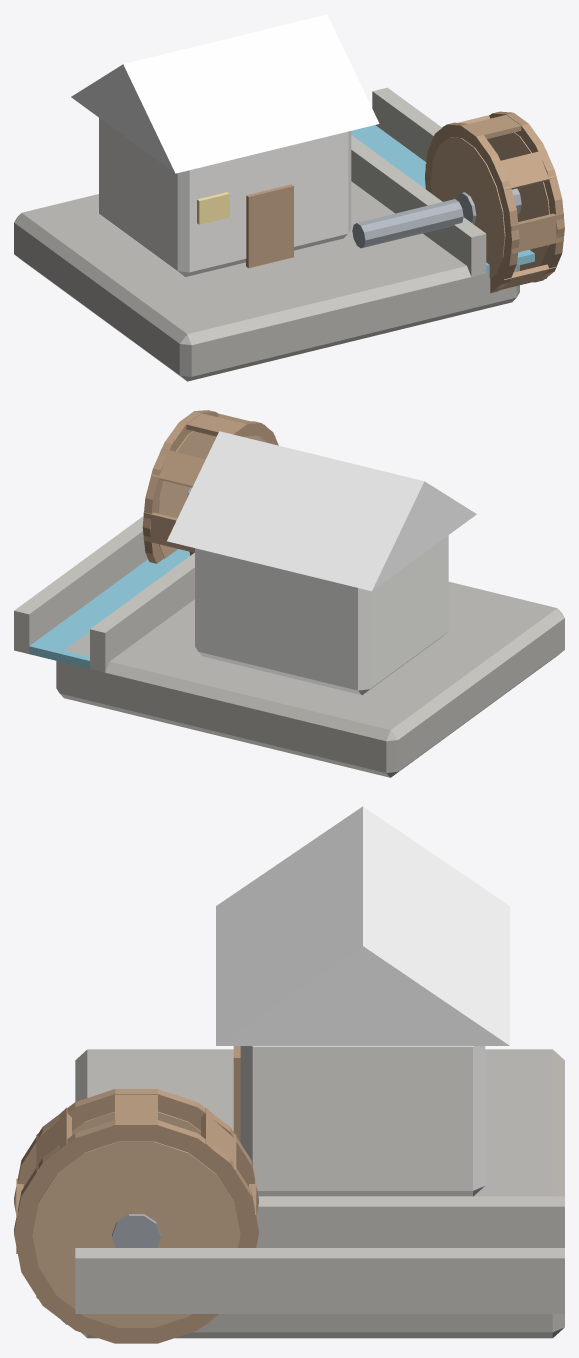
The model's file is hydro.glb.
The picture shows the model from 3 angles, top to bottom: view 1: azimuth 30°, elevation 25°; view 2: azimuth 150°, elevation 25°; view 3: azimuth 270°, elevation 25°; orthographic projection. The views are drawn at different scales.
Parts seen in each view (by area): view 1: main, blades; view 2: main, blades; view 3: main, blades.
Boxes of the visible parts, x1,y1,x2,y2 form: main: (14,14,561,381); blades: (425,111,564,293); main: (14,431,564,777); blades: (142,410,278,563); main: (75,806,564,1338); blades: (14,1089,258,1343).
Size of the model in its own units: 1 by 0.6 by 0.9.
